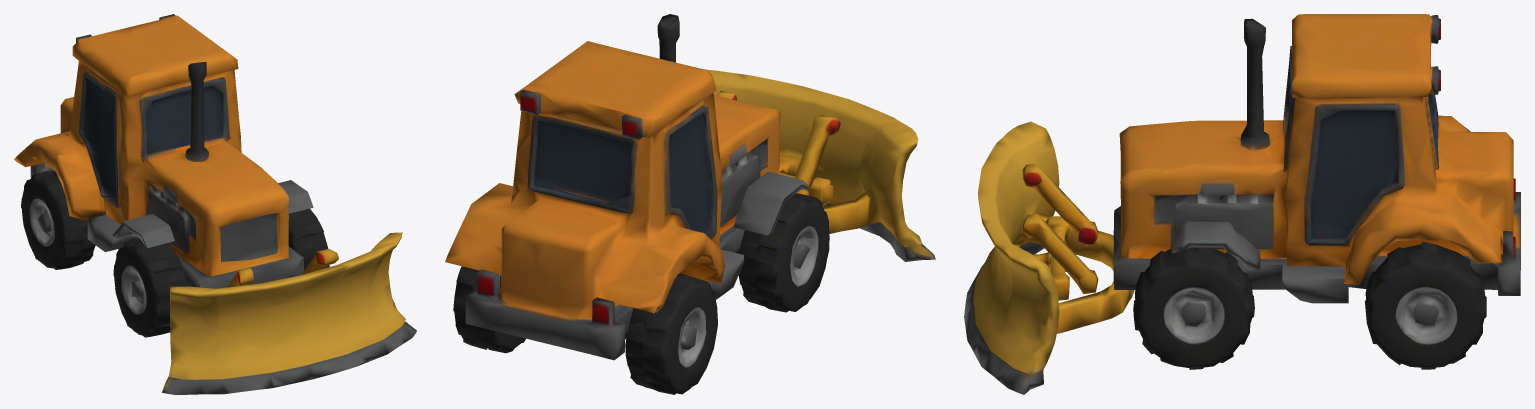
Rendered from plough.glb.
The picture shows the model from 3 angles, left to right: view 1: azimuth 30°, elevation 25°; view 2: azimuth 150°, elevation 25°; view 3: azimuth 270°, elevation 25°; orthographic projection. The views are drawn at different scales.
Parts seen in each view (by area): view 1: Plough; view 2: Plough; view 3: Plough.
Part boxes in pixels (x1,y1,x2,y2): Plough: [14, 14, 416, 394]; Plough: [445, 14, 935, 394]; Plough: [964, 14, 1520, 394].
Bounding box in the file's own units: 2.4 × 2.12 × 3.6.
1 material, 1 textured.
